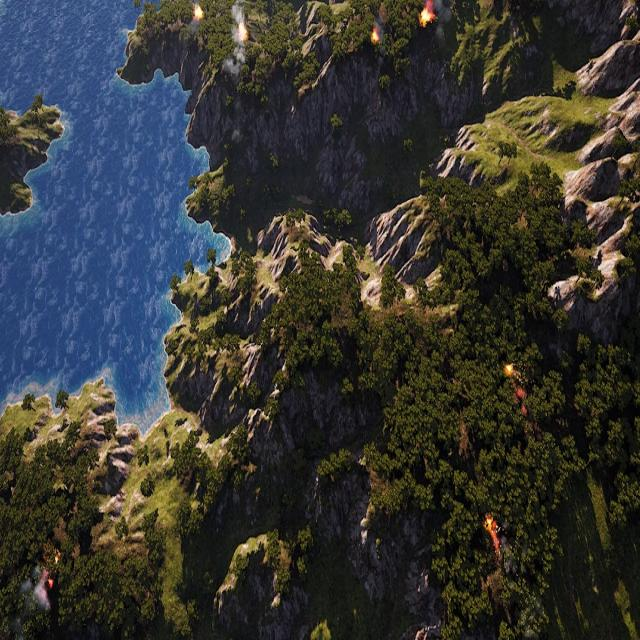fire: (483, 514, 502, 549), (419, 2, 434, 25), (240, 23, 251, 44), (193, 4, 205, 23), (372, 30, 381, 46), (506, 364, 513, 376)
smoke: (222, 2, 249, 85), (28, 567, 54, 616)
